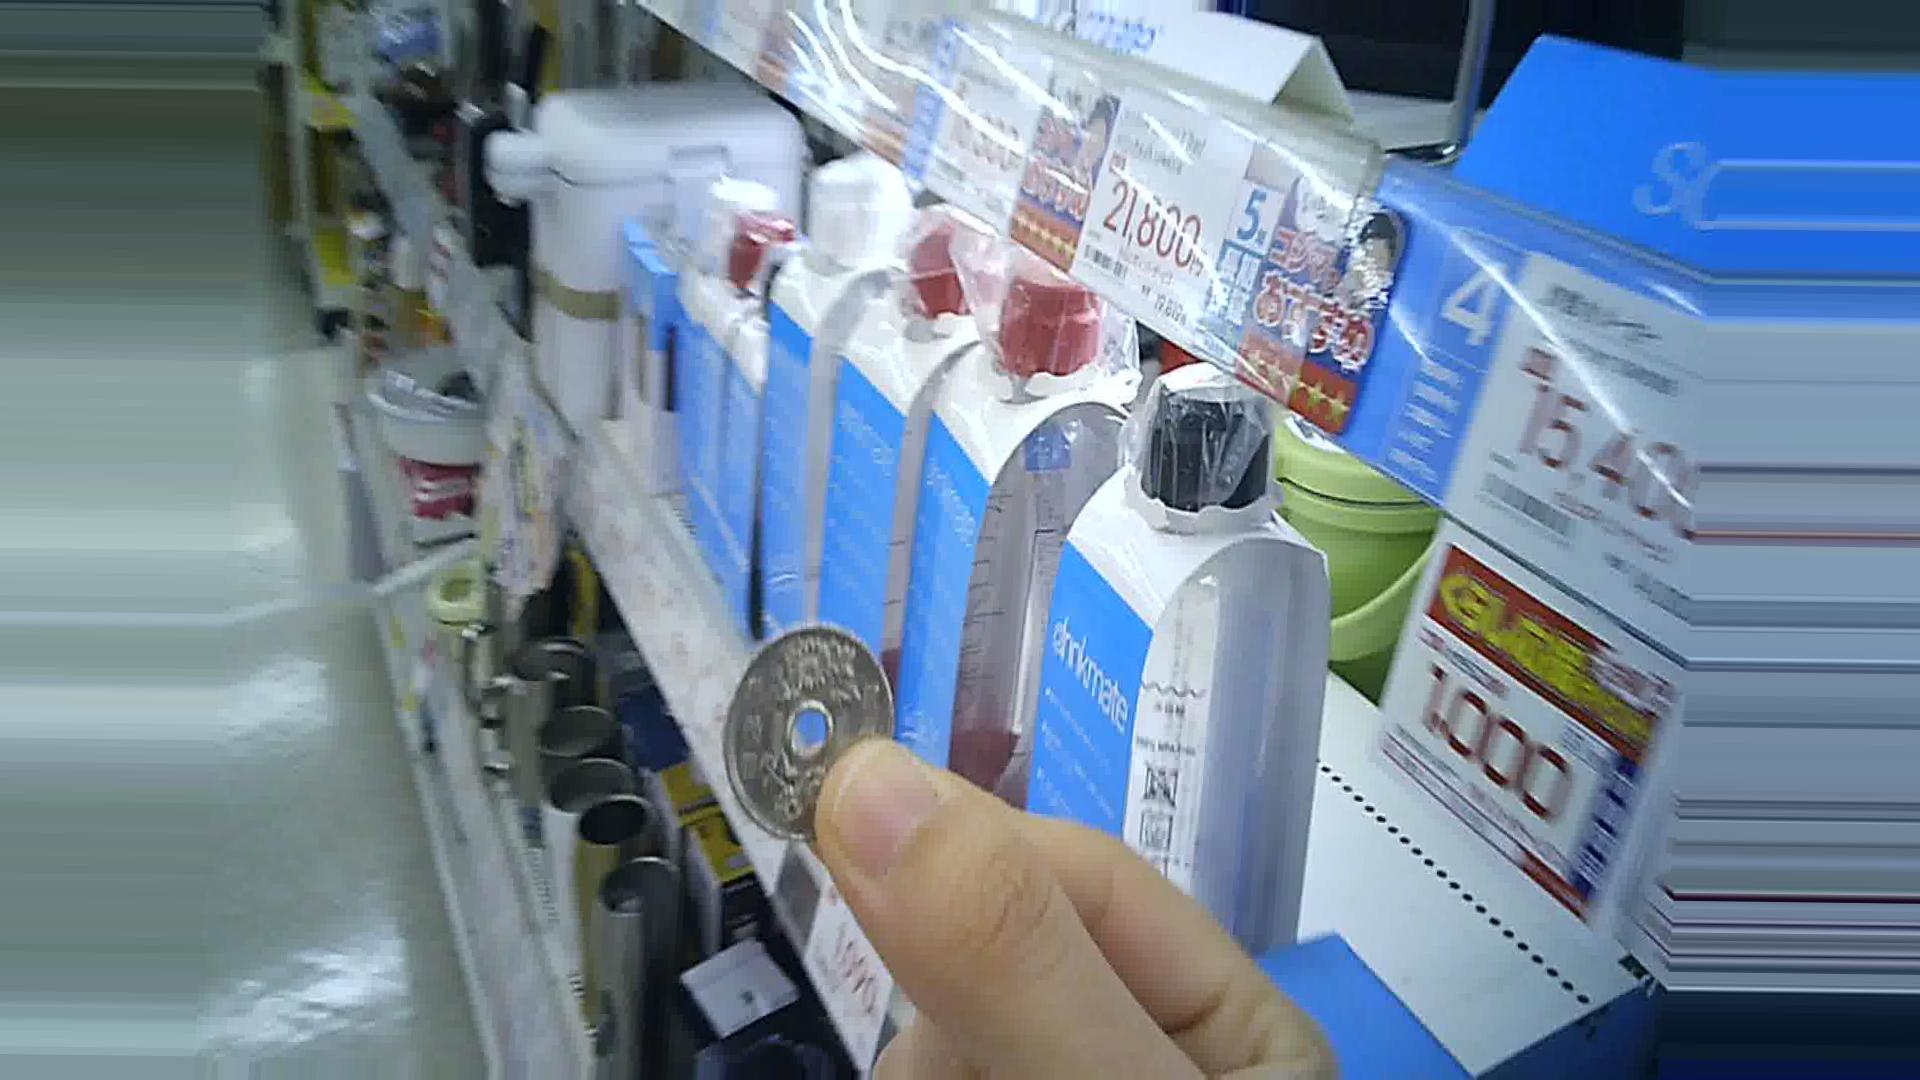50 Yen: (720, 624, 891, 831)
